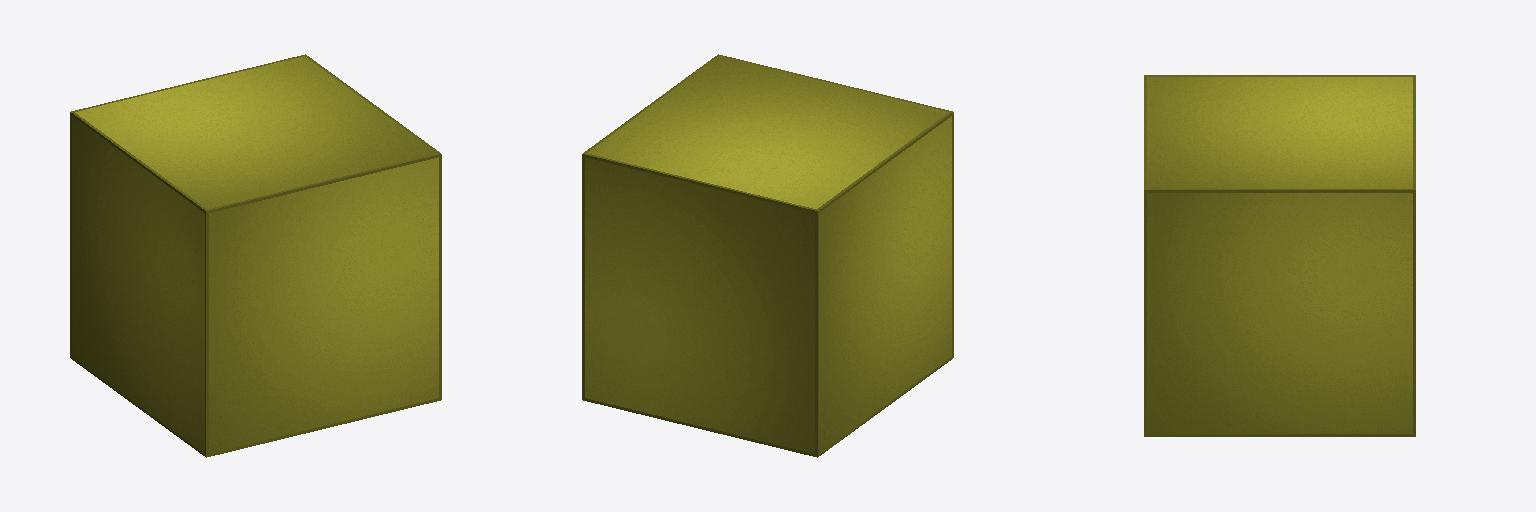
3 views of the same model, side by side, from view 1: azimuth 30°, elevation 25°; view 2: azimuth 150°, elevation 25°; view 3: azimuth 270°, elevation 25° (orthographic).
Bounding box in the file's own units: 0.4 × 0.4 × 0.4.
1 materials, 1 textured.